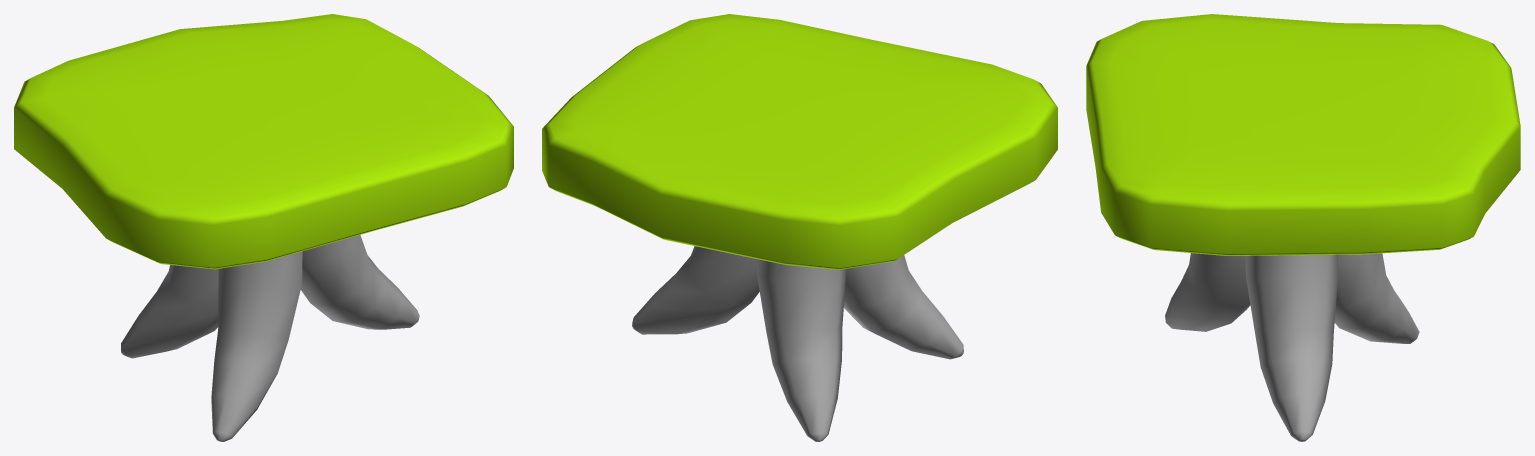
File: Mode_table.fbx
3 renders of one model, left to right at view 1: azimuth 30°, elevation 25°; view 2: azimuth 150°, elevation 25°; view 3: azimuth 270°, elevation 25°, orthographic. The views are drawn at different scales.
Visible parts, largest first — view 1: pCube30, Os04, Os02, Os03; view 2: pCube30, Os03, Os02, Os04; view 3: pCube30, Os02, Os03, Os04.
Part boxes in pixels (<box>): pCube30: <box>14,14,513,269</box>; Os04: <box>211,251,302,441</box>; Os02: <box>300,235,419,329</box>; Os03: <box>121,265,218,358</box>; pCube30: <box>542,14,1057,269</box>; Os03: <box>757,259,846,441</box>; Os02: <box>632,246,759,334</box>; Os04: <box>843,255,963,359</box>; pCube30: <box>1086,14,1520,255</box>; Os02: <box>1245,254,1338,441</box>; Os03: <box>1334,253,1419,343</box>; Os04: <box>1165,253,1250,331</box>.
Bounding box in the file's own units: 55.49 × 36.8 × 52.32.
